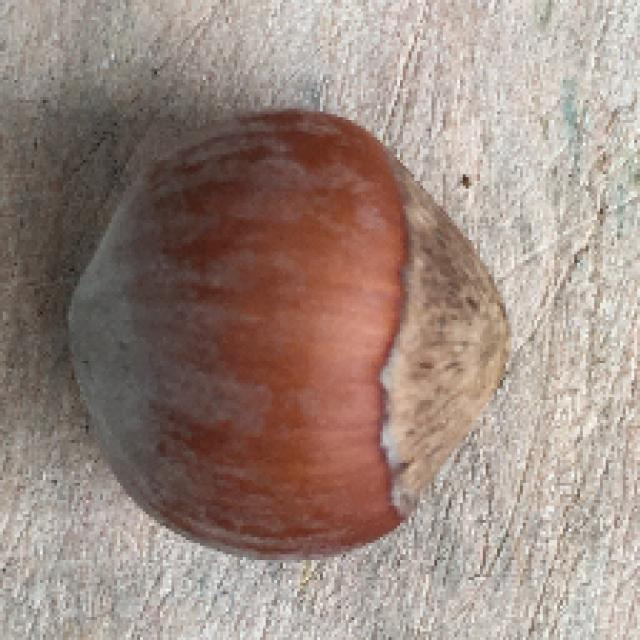qualityHazelnut: (52, 108, 516, 563)
